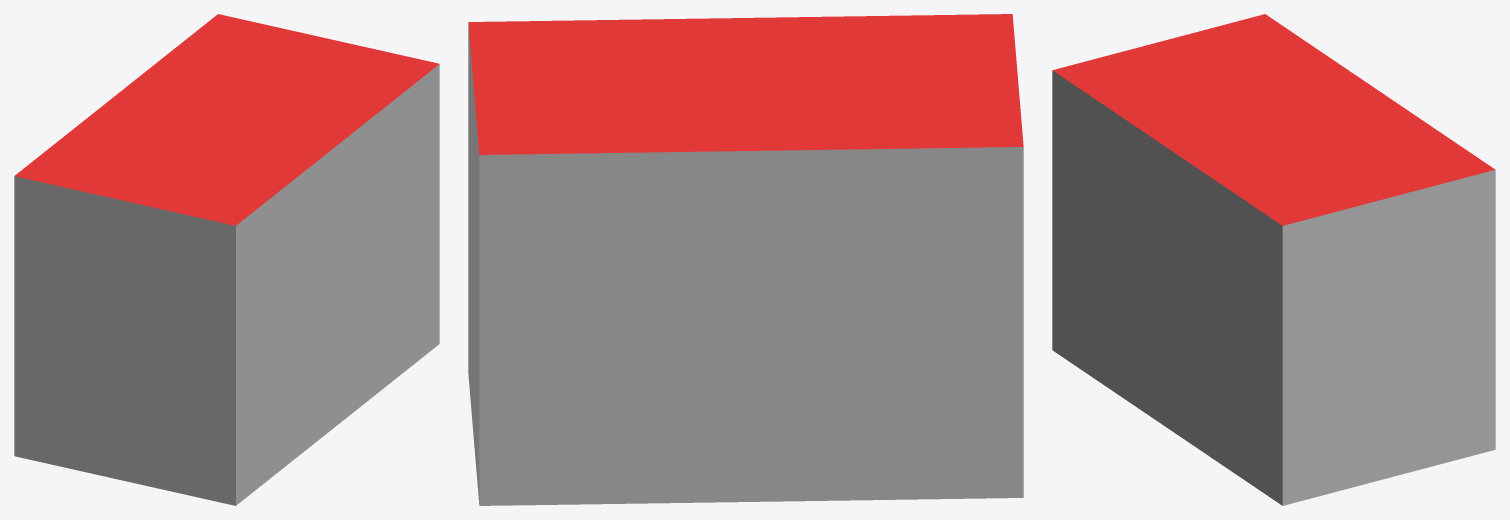
The model's file is ID_c638bad0-722a-42a3-b6d8-79195a9c34e9.dae.
3 views of the same model, side by side, from view 1: azimuth 30°, elevation 25°; view 2: azimuth 150°, elevation 25°; view 3: azimuth 270°, elevation 25° (orthographic). The views are drawn at different scales.
Bounding box in the file's own units: 25.97 × 22.95 × 16.
